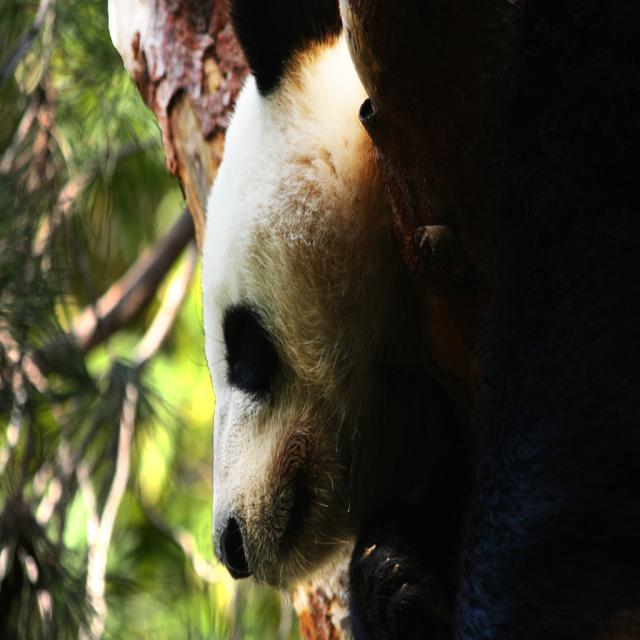panda: (196, 0, 639, 639)
